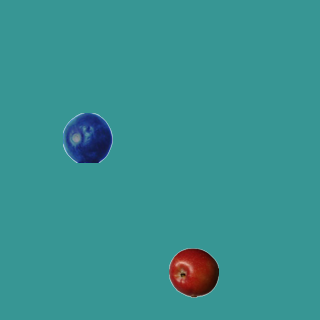Apple Braeburn: (168, 247, 218, 297)
Huckleberry: (62, 112, 112, 162)
